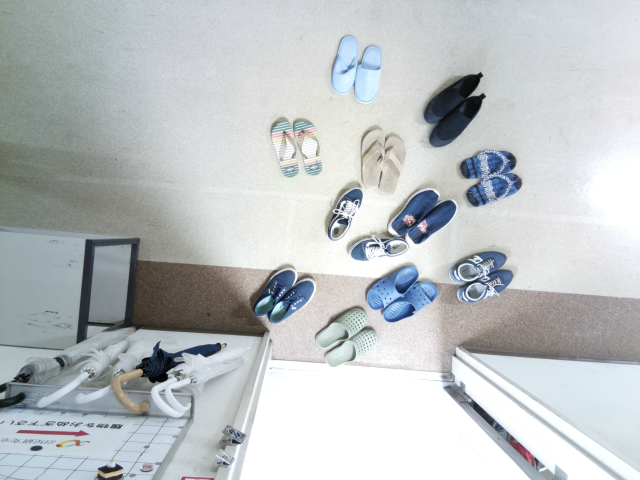Copy of Copy of Copy of Copy of Copy of Copy of Copy of Copy of shoes: (448, 250, 507, 284)
Copy of Copy of Copy of Copy of Copy of Copy of Copy of shoes: (458, 268, 514, 303)
Copy of Copy of Copy of Copy of Copy of Copy of shoes: (406, 197, 458, 246)
Copy of Copy of Copy of Copy of Copy of sandal: (464, 173, 523, 205)
Copy of Copy of Copy of Copy of Copy of shoes: (387, 186, 439, 235)
Copy of Copy of Copy of Copy of Copy of slipper: (353, 45, 383, 104)
Copy of Copy of Copy of Copy of sandal: (461, 150, 517, 179)
Copy of Copy of Copy of Copy of shoes: (347, 235, 409, 264)
Copy of Copy of Copy of Copy of slipper: (330, 34, 358, 95)
Copy of Copy of Copy of sandal: (380, 133, 406, 193)
Copy of Copy of Copy of shoes: (259, 277, 315, 325), (325, 186, 363, 241)
Copy of Copy of Copy of slipper: (382, 279, 439, 322)
Copy of Copy of sandal: (359, 128, 385, 188)
Copy of Copy of shoes: (251, 267, 299, 318)
Copy of Copy of slipper: (366, 265, 419, 310)
Copy of sandal: (294, 119, 323, 176)
Copy of shoes: (429, 92, 486, 147)
Copy of slipper: (323, 326, 376, 368)
sandal: (269, 119, 299, 178)
shoes: (424, 71, 482, 123)
slipper: (314, 305, 368, 349)
